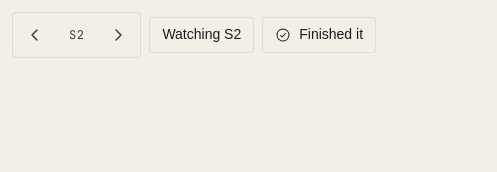
Scenario: InProgressActions — finished it › returns to the buttons when Cancel is pressed
Click the button "Finished it" at (319, 35), box [262,17,376,53]
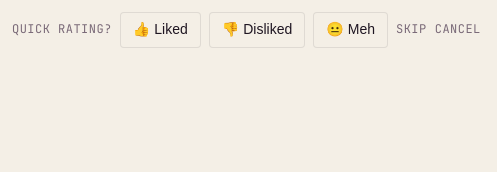
Click the button "Cancel" at (458, 30), box [435,21,481,38]
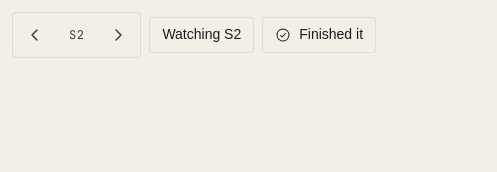
expect the button "Finished it" is shown: met, box [262,17,376,53]
